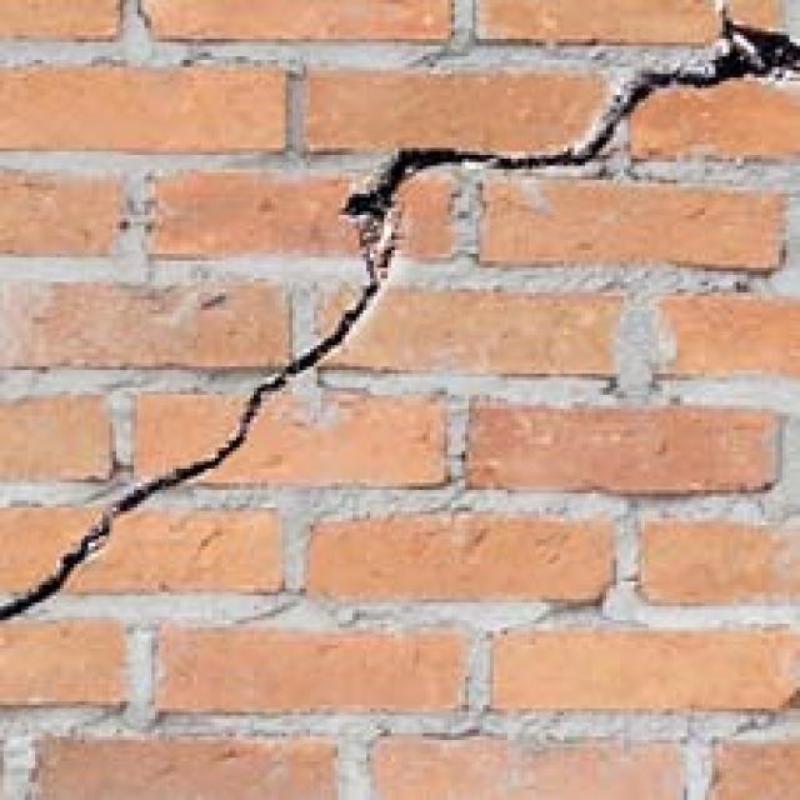crack: (0, 16, 800, 620)
